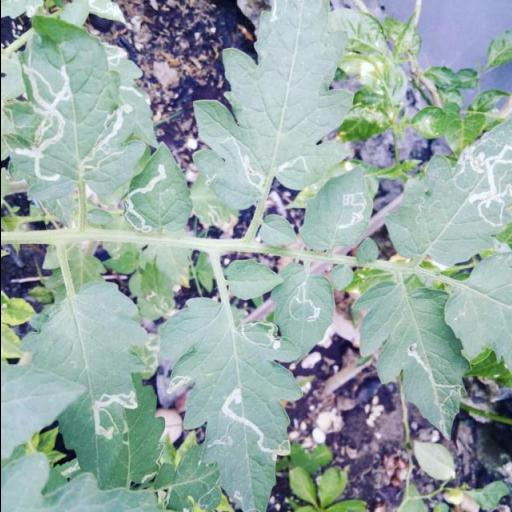Leaf Miner: (190, 0, 355, 208), (156, 298, 304, 512), (6, 18, 148, 204), (31, 278, 151, 488), (383, 113, 512, 268), (349, 280, 471, 439), (299, 162, 372, 252), (120, 140, 190, 232), (270, 262, 334, 354)
